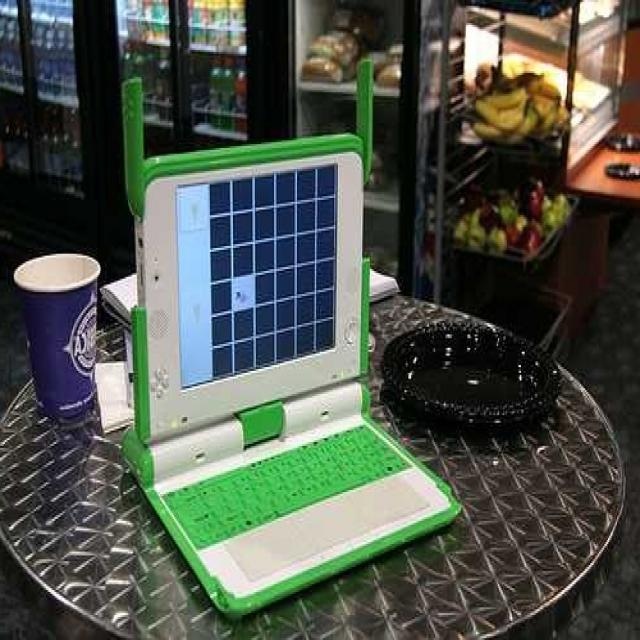laptop: (120, 145, 448, 615)
